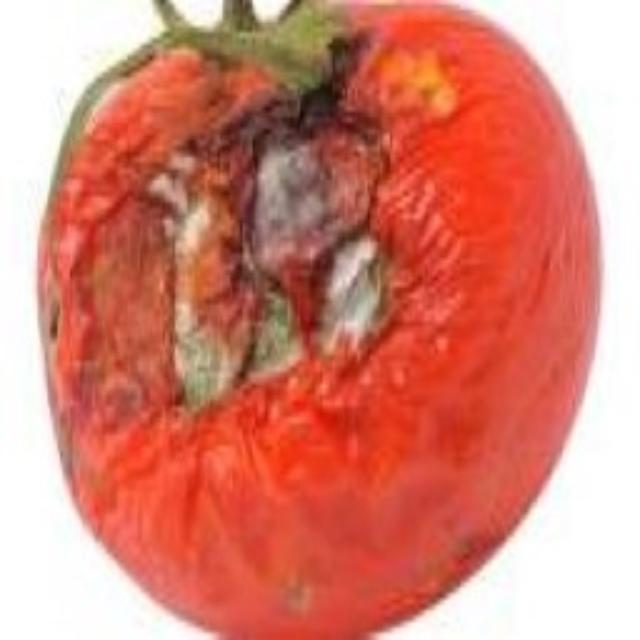defect: (36, 0, 605, 640)
